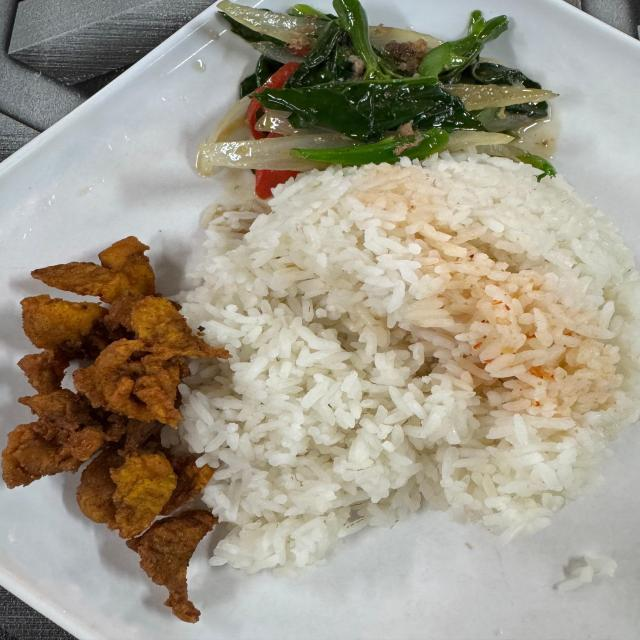Chicken: (8, 239, 229, 624)
Plate: (0, 425, 639, 639)
Rice: (176, 158, 637, 570)
Vegetables: (194, 0, 554, 196)
